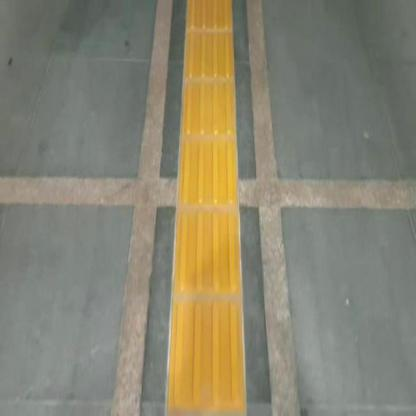podotacti: (170, 3, 247, 414)
